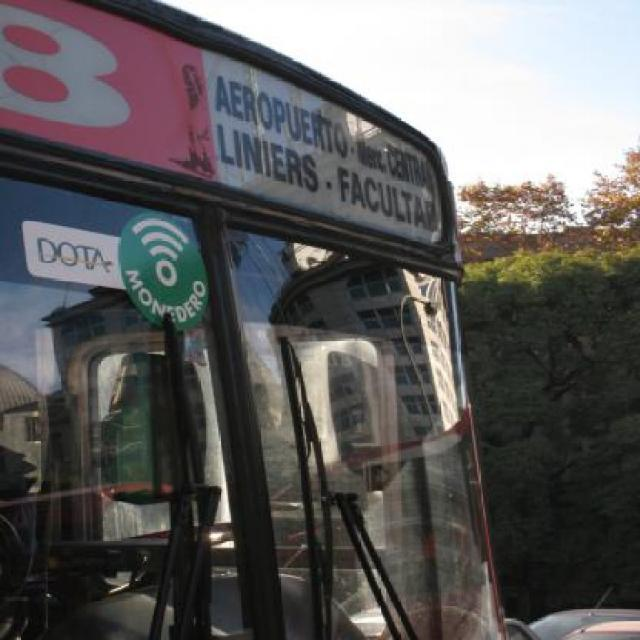motorcycle: (0, 0, 514, 638)
